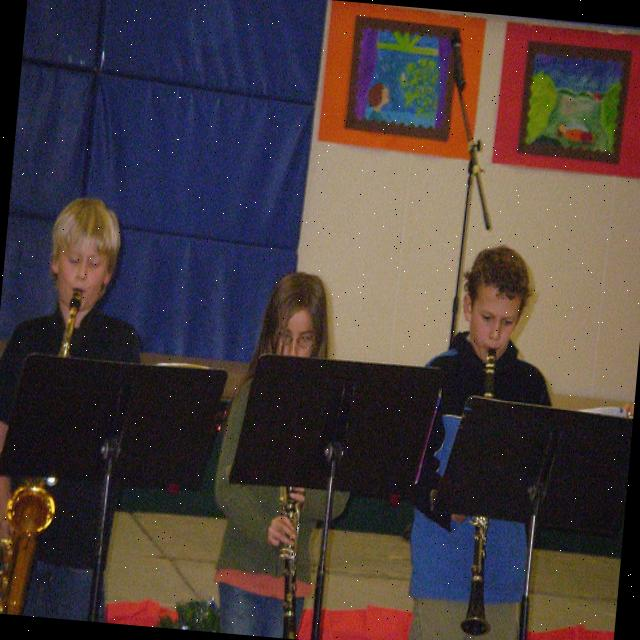clarinet: (456, 345, 515, 640), (260, 479, 318, 638)
saxophone: (0, 277, 94, 618)
